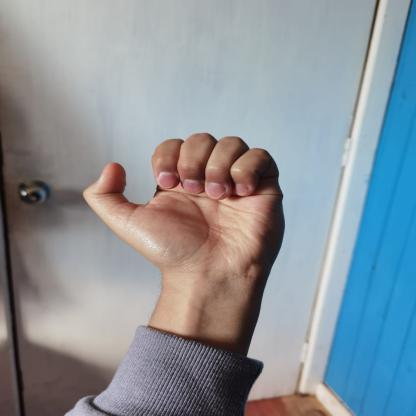E: (67, 126, 302, 296)
